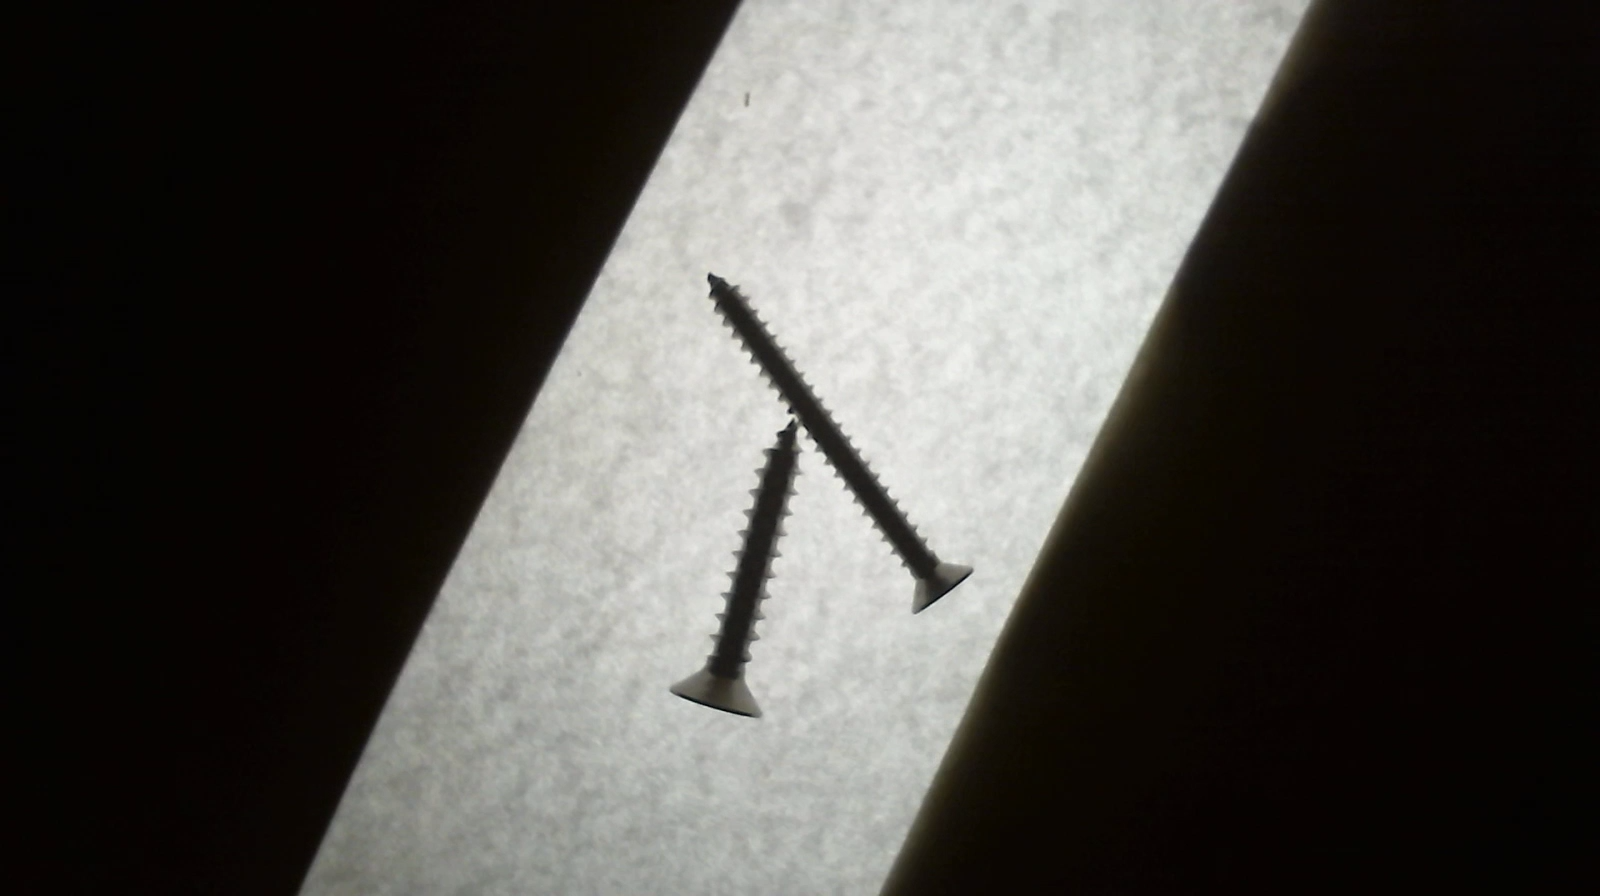S001: (666, 419, 803, 721)
S002: (697, 267, 975, 613)
